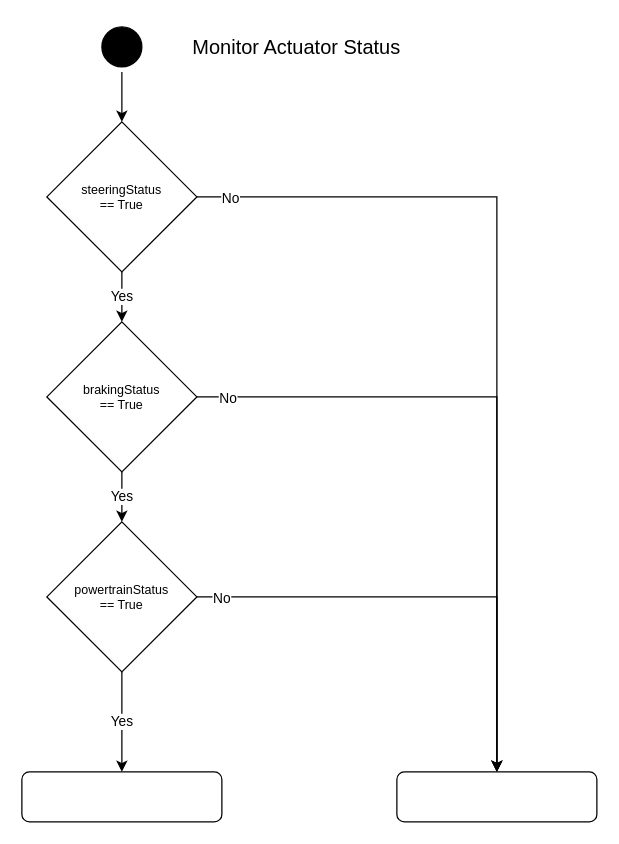
Image size: 619x844. Some labels were removed from this diagram. The shapes that lost their labels are listed below. From the top down, each one's centre as x and y in pixels, then its label:
At [121,796]: "Return actuatorStatus == True".
At [496,796]: "Return actuatorStatus == False".
